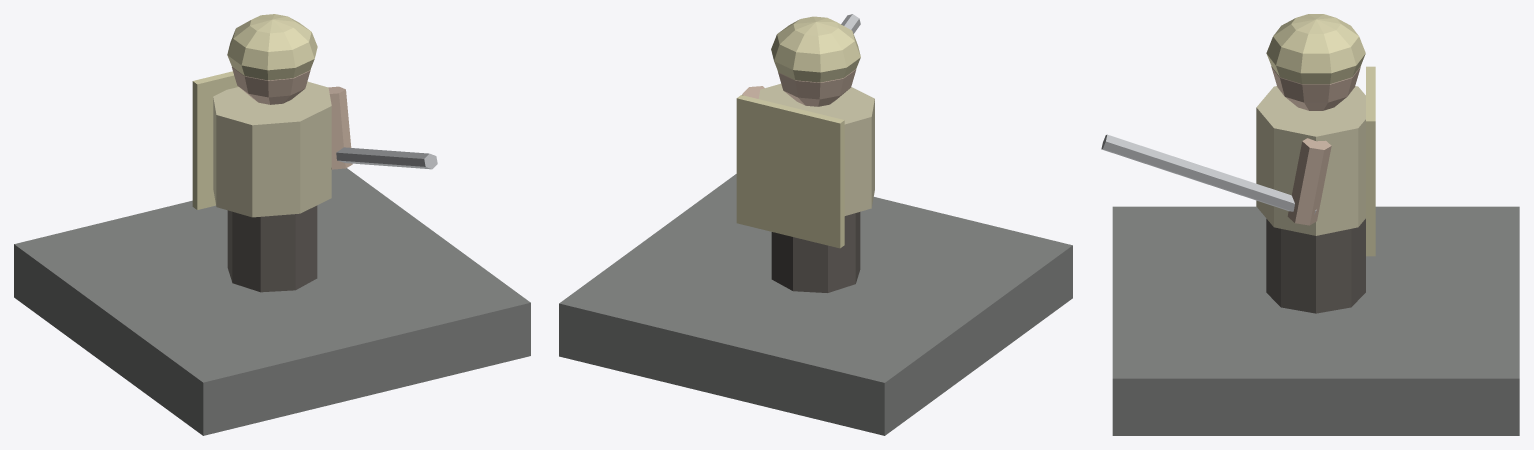
File: human_paladin.glb
The picture shows the model from 3 angles, left to right: view 1: azimuth 30°, elevation 25°; view 2: azimuth 150°, elevation 25°; view 3: azimuth 270°, elevation 25°; orthographic projection. The views are drawn at different scales.
Visible parts, largest first — view 1: Base, TurretMesh, ArmMesh; view 2: Base, TurretMesh; view 3: Base, TurretMesh, ArmMesh.
Part boxes in pixels (x1,y1,x2,y2): Base: [14, 168, 530, 435]; TurretMesh: [192, 14, 331, 292]; ArmMesh: [328, 86, 437, 169]; Base: [559, 174, 1072, 435]; TurretMesh: [736, 16, 874, 292]; Base: [1112, 206, 1519, 435]; TurretMesh: [1256, 14, 1375, 313]; ArmMesh: [1101, 134, 1331, 225].
Bounding box in the file's own units: 1.8 × 1.61 × 1.85.
